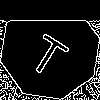T: (25, 25, 75, 80)
